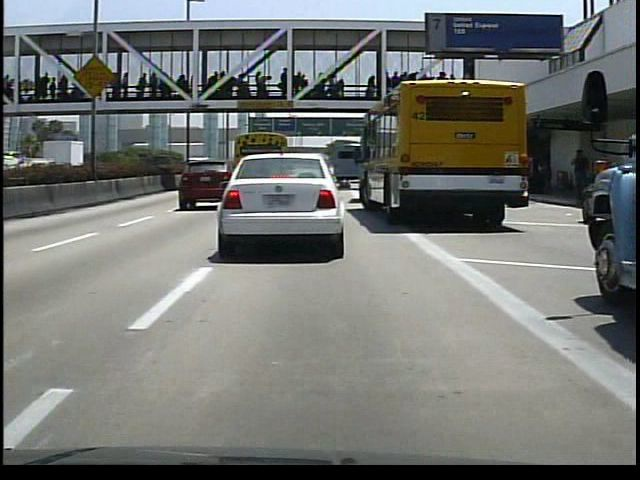person: (567, 145, 594, 207)
